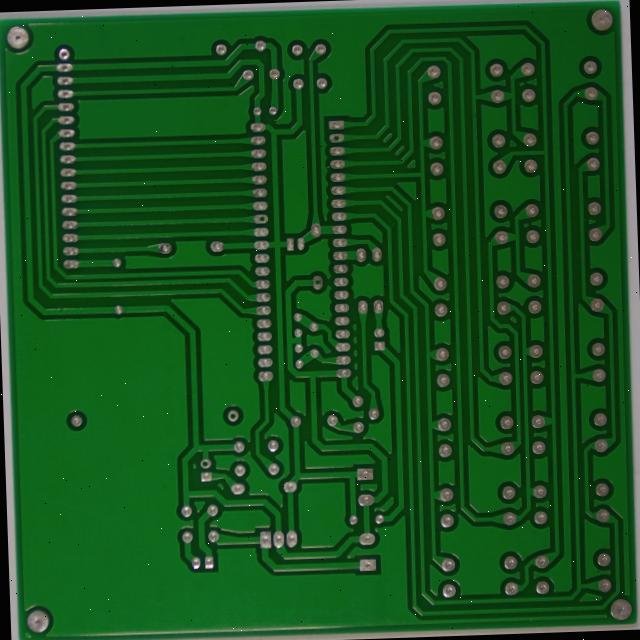missing_hole: (352, 218, 372, 238), (373, 53, 394, 71), (256, 371, 275, 389), (289, 147, 307, 165), (226, 429, 240, 444)
